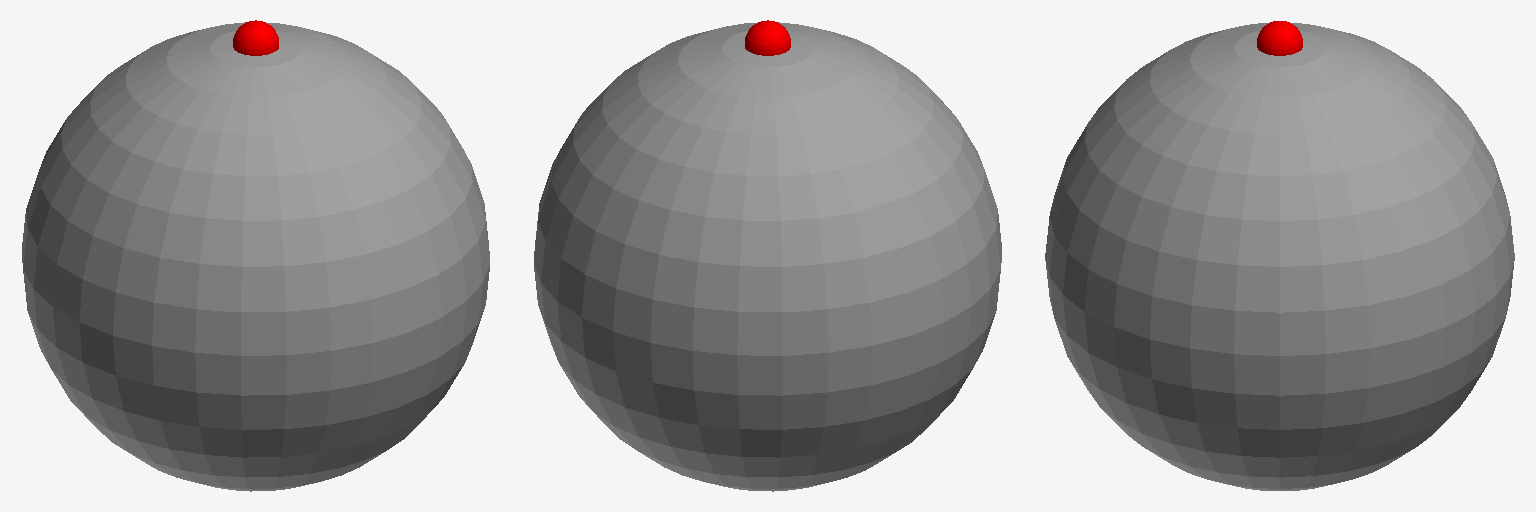
robot.urdf — sphere:
<?xml version="1.0" ?>
<!-- This URDF describes a punctual mass: it is
meant to unit test the contact and friction model in Jiminy.
The force sensor is mounted with an offset rotation to verify frame computations.
-->
<robot name="sphere">
    <link name="MassBody">
        <inertial>
            <origin xyz="0.0 0.0 0.0" rpy="0.0 0.0 0.0"/>
            <mass value="1.0"/>
            <inertia ixx="1.0" ixy="0.0" ixz="0.0" iyy="1.0" iyz="0.0" izz="1.0"/>
        </inertial>
        <visual>
            <origin xyz="0.0 0.0 0.0" rpy="0.0 0.0 0.0"/>
            <geometry>
                <sphere radius="0.5"/>
            </geometry>
            <material name="">
                <color rgba="0.65 0.65 0.65 1.0"/>
            </material>
        </visual>
        <visual>
            <origin xyz="0.0 0.0 0.5" rpy="0.0 0.0 0.0"/>
            <geometry>
                <sphere radius="0.05"/>
            </geometry>
            <material name="">
                <color rgba="1 0 0 1"/>
            </material>
        </visual>
        <collision>
            <origin xyz="0.0 0.0 0.0" rpy="0.0 0.0 0.0"/>
            <geometry>
                <sphere radius="0.5"/>
            </geometry>
        </collision>
    </link>
</robot>

--- Render facts (derived) ---
Views: 3 orthographic renders of the robot side by side, from view 1: azimuth 30°, elevation 25°; view 2: azimuth 150°, elevation 25°; view 3: azimuth 270°, elevation 25°.
Model sphere with 1 links and 0 joints (none), rooted at MassBody, posed every joint at zero.
Visible links, largest first — view 1: MassBody; view 2: MassBody; view 3: MassBody.
Boxes of the visible links, <box> form: MassBody: <box>22,20,489,491</box>; MassBody: <box>534,20,1001,491</box>; MassBody: <box>1045,21,1514,490</box>.
Bounding box of the posed robot: 1 × 1 × 1.05 m (x, y, z).
Geometry: primitives only (box / cylinder / sphere), no mesh files.